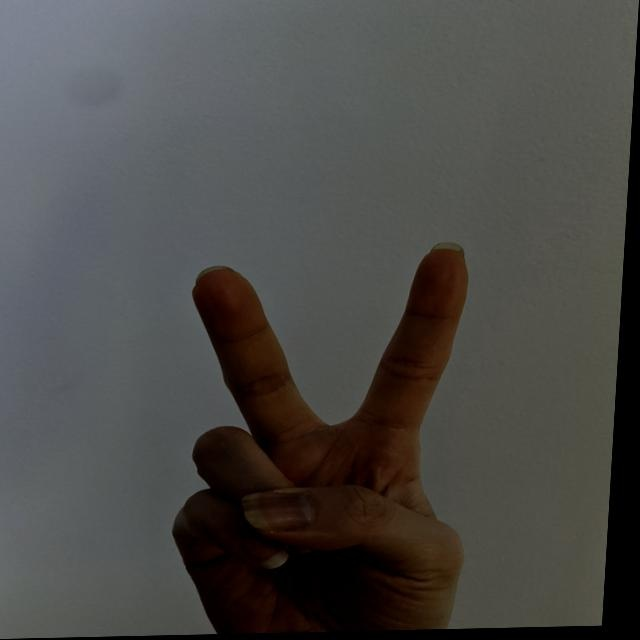V: (165, 239, 494, 636)
